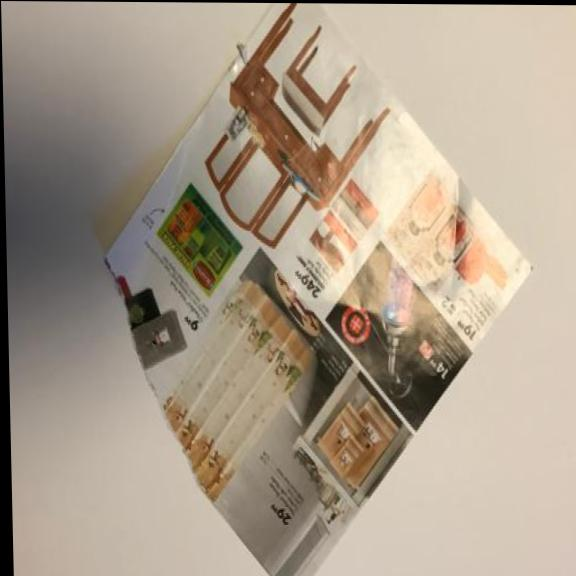Kertas: (94, 6, 539, 576)
